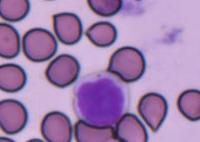L: (73, 71, 130, 127)
